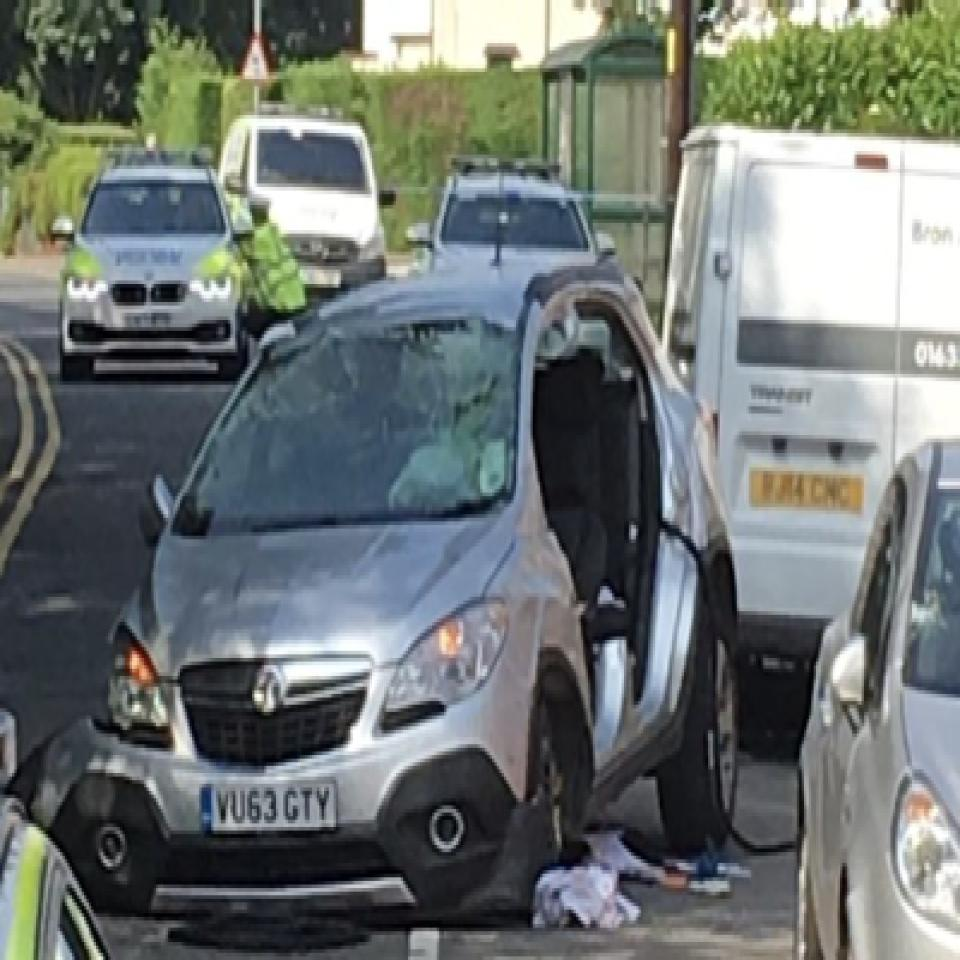licence: (204, 781, 348, 842), (749, 460, 857, 503)
